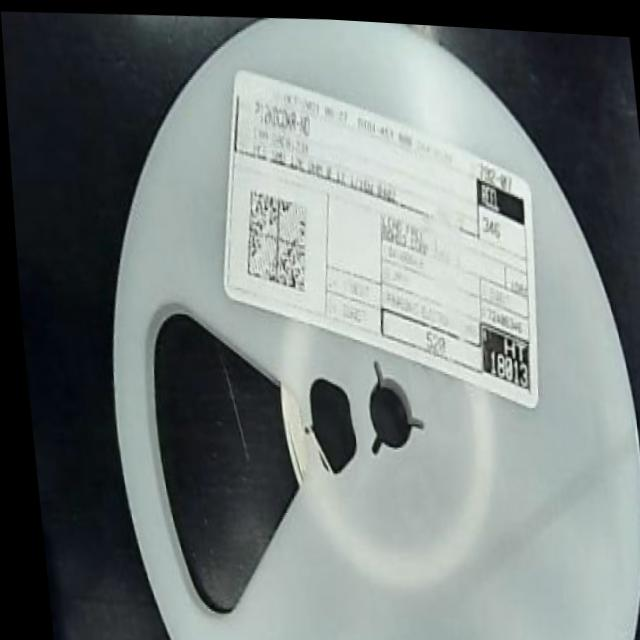datamatrix: (236, 182, 316, 295)
